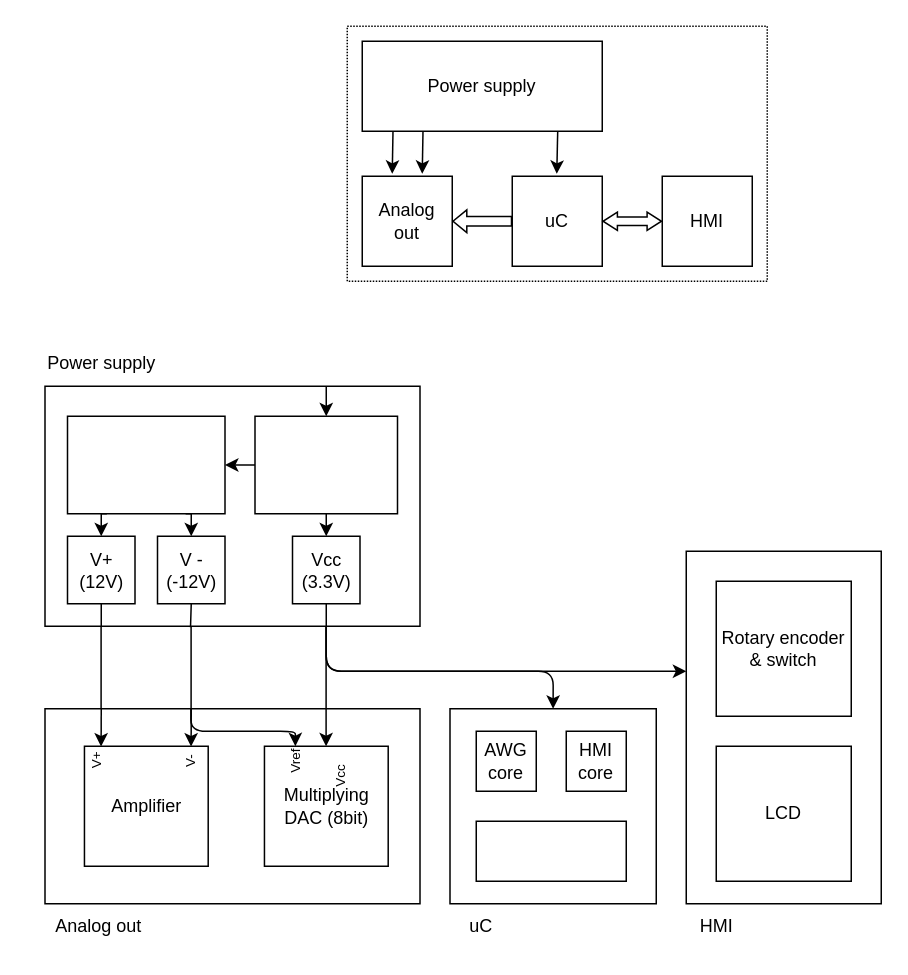
Some shapes in this 908 by 975 pixel diagram are drawn without their labels. Here are the shapes that lost their labels. From the top down, the centre of each, then its label:
At point 145,464: "Split rail DC switching regulator".
At point 326,464: "12V to 3.3V regulator".
At point 550,850: "USB interface".
